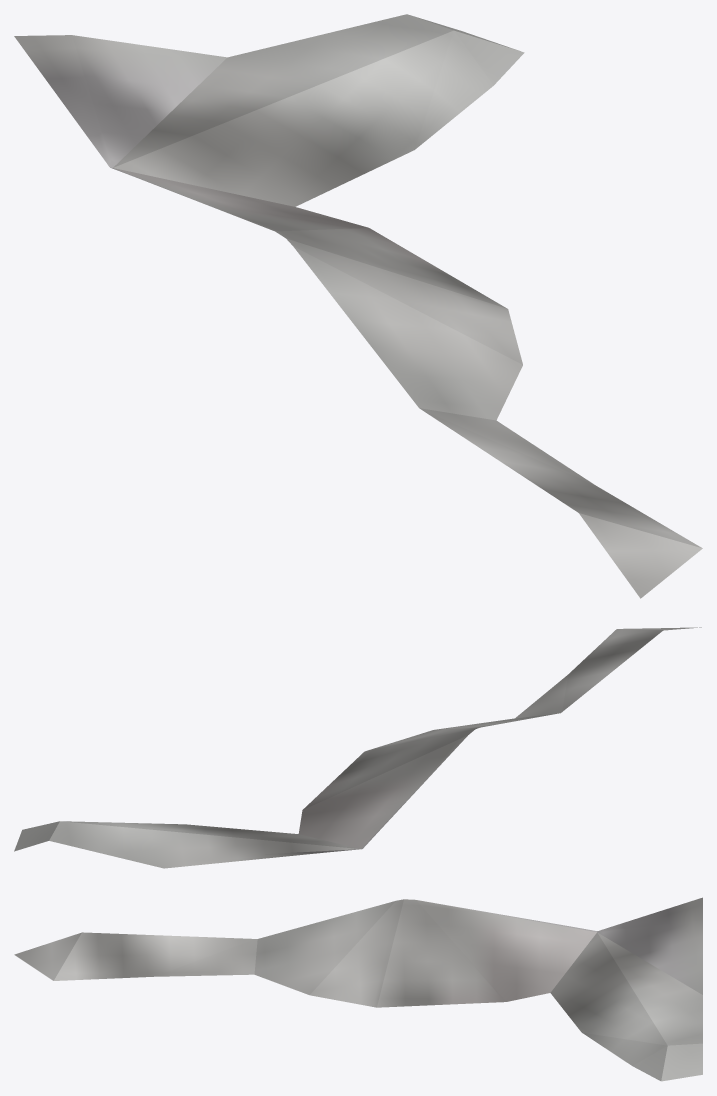
The picture shows the model from 3 angles, top to bottom: view 1: azimuth 30°, elevation 25°; view 2: azimuth 150°, elevation 25°; view 3: azimuth 270°, elevation 25°; orthographic projection. The views are drawn at different scales.
Size of the model in its own units: 0.0409 by 0.0086 by 0.0938.
1 material, 1 textured.
